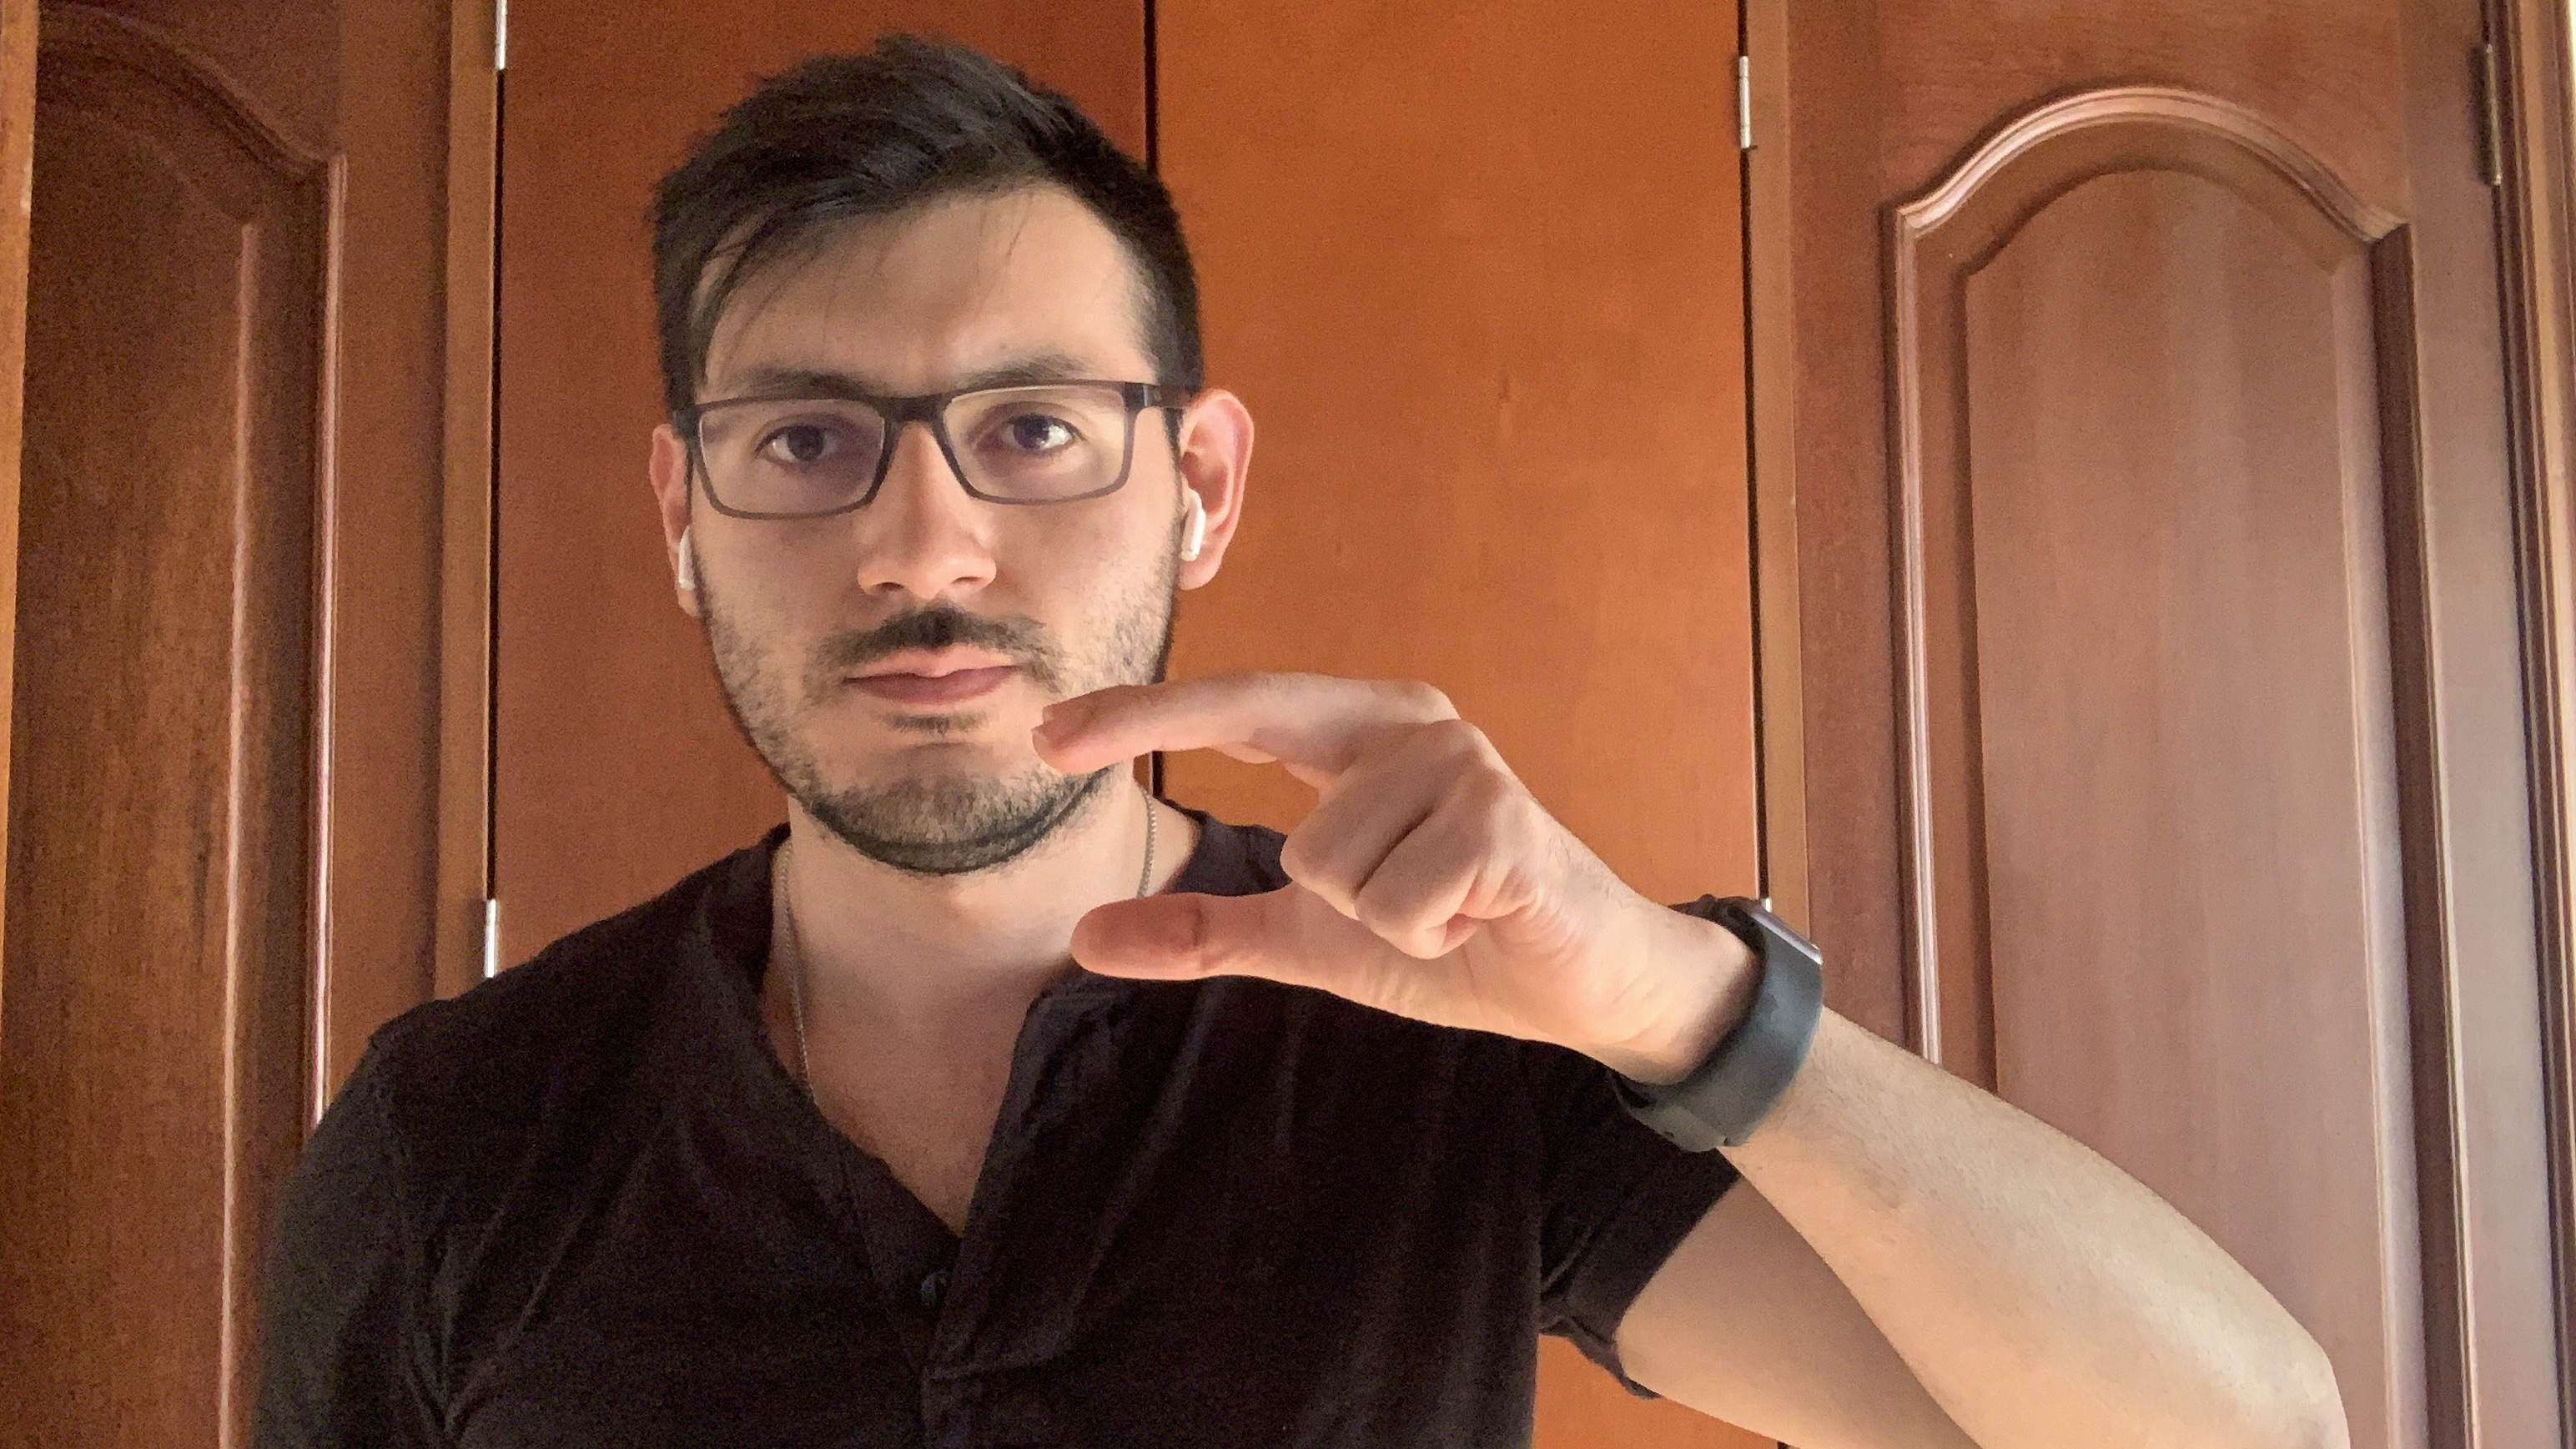No: (1017, 667, 1619, 1079)
